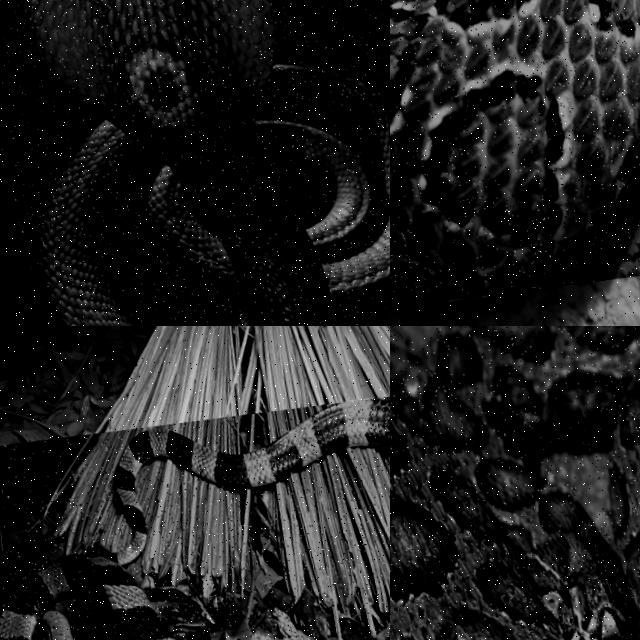Bungarus fasciatus: (0, 400, 389, 639)
Daboia siamensis: (390, 326, 639, 639), (390, 0, 639, 300)
Naja kaouthia: (21, 0, 389, 325)
